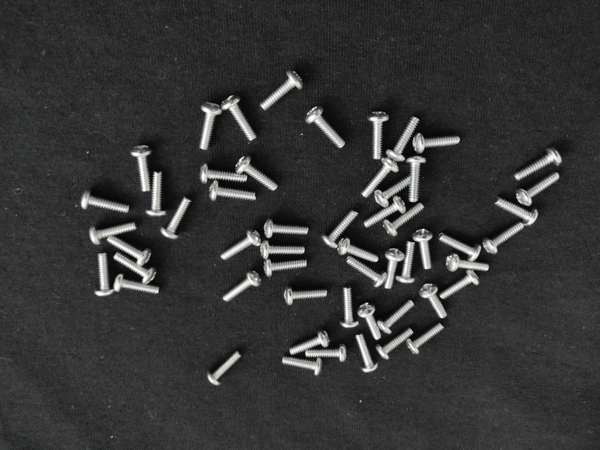shortscrew: (260, 69, 304, 111), (306, 105, 347, 149), (221, 94, 256, 142), (235, 155, 279, 192), (387, 115, 421, 162), (362, 156, 399, 199), (515, 148, 563, 180), (323, 208, 360, 249), (516, 172, 561, 205), (113, 252, 156, 286), (107, 234, 151, 267), (383, 202, 424, 237), (483, 221, 525, 255), (160, 196, 192, 240), (206, 349, 243, 387), (220, 228, 262, 261), (364, 196, 407, 228), (378, 299, 416, 335), (494, 198, 539, 227), (437, 232, 482, 261), (347, 256, 387, 288), (198, 100, 223, 151), (80, 187, 129, 213), (439, 269, 480, 300), (376, 328, 414, 361), (223, 270, 262, 302), (407, 322, 444, 355), (289, 329, 332, 356), (338, 237, 379, 265), (89, 223, 138, 246), (374, 177, 410, 207), (199, 163, 248, 185), (367, 111, 389, 160), (405, 153, 427, 202), (131, 144, 152, 193), (146, 169, 167, 218), (420, 281, 446, 320), (209, 180, 257, 201), (412, 133, 461, 153), (94, 253, 116, 297), (284, 284, 328, 306), (264, 218, 310, 239), (383, 248, 406, 290), (114, 274, 159, 295), (261, 240, 306, 261), (283, 354, 324, 377), (356, 303, 381, 340), (356, 332, 378, 374), (397, 241, 417, 286), (262, 259, 309, 278), (446, 253, 489, 273), (339, 287, 359, 329), (306, 344, 348, 363), (414, 229, 433, 270)
